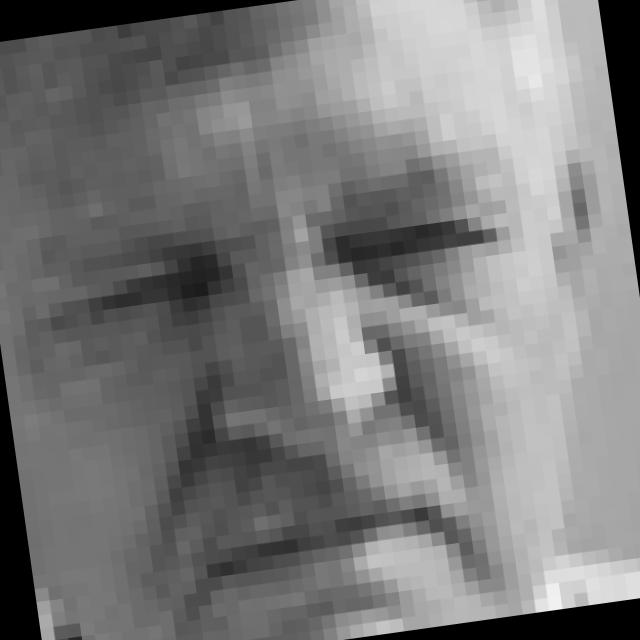disgust: (21, 151, 562, 640)
